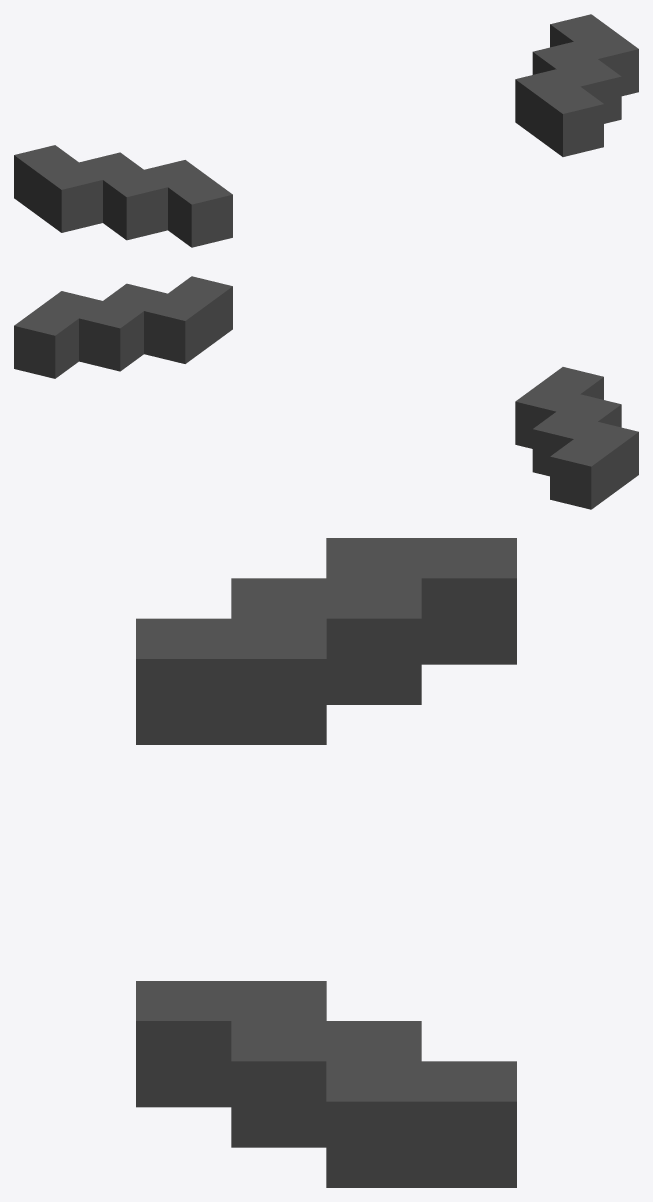
File: Ship_2-4.obj
3 views of the same model, one above another, from view 1: azimuth 30°, elevation 25°; view 2: azimuth 150°, elevation 25°; view 3: azimuth 270°, elevation 25° (orthographic). The views are drawn at different scales.
Parts seen in each view (by area): view 1: Ship_2-4; view 2: Ship_2-4; view 3: Ship_2-4.
Part boxes in pixels (bbox=[...]): Ship_2-4: bbox=[14, 14, 638, 247]; Ship_2-4: bbox=[14, 276, 638, 509]; Ship_2-4: bbox=[136, 538, 516, 1187].
Bounding box in the file's own units: 14 × 1 × 4.
Materials: 1 (1 with a texture image).
